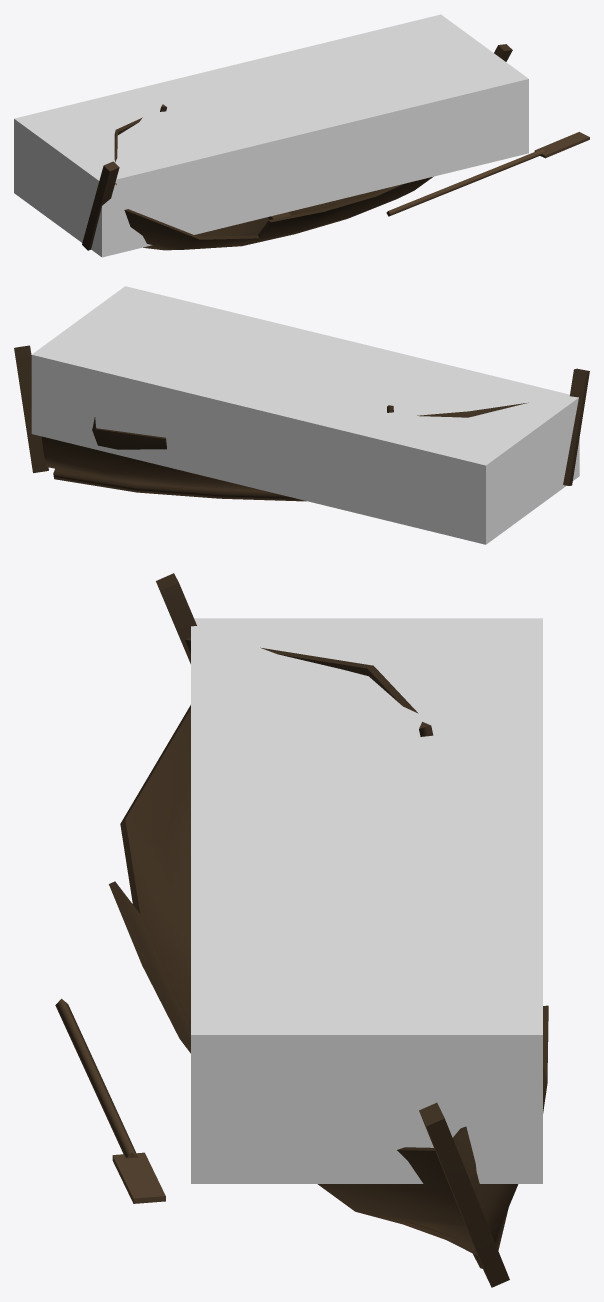
File: sunken_boat.glb
3 renders of one model, top to bottom at view 1: azimuth 30°, elevation 25°; view 2: azimuth 150°, elevation 25°; view 3: azimuth 270°, elevation 25°, orthographic. The views are drawn at different scales.
Visible parts, largest first — view 1: COL_boat, sunken_boat; view 2: COL_boat, sunken_boat; view 3: COL_boat, sunken_boat.
Part boxes in pixels (bbox=[...]): COL_boat: bbox=[14, 14, 528, 257]; sunken_boat: bbox=[82, 44, 589, 250]; COL_boat: bbox=[31, 286, 579, 544]; sunken_boat: bbox=[14, 345, 589, 501]; COL_boat: bbox=[191, 618, 542, 1183]; sunken_boat: bbox=[55, 573, 548, 1287].
Size of the model in its own units: 4.71 by 1.38 by 2.1.
